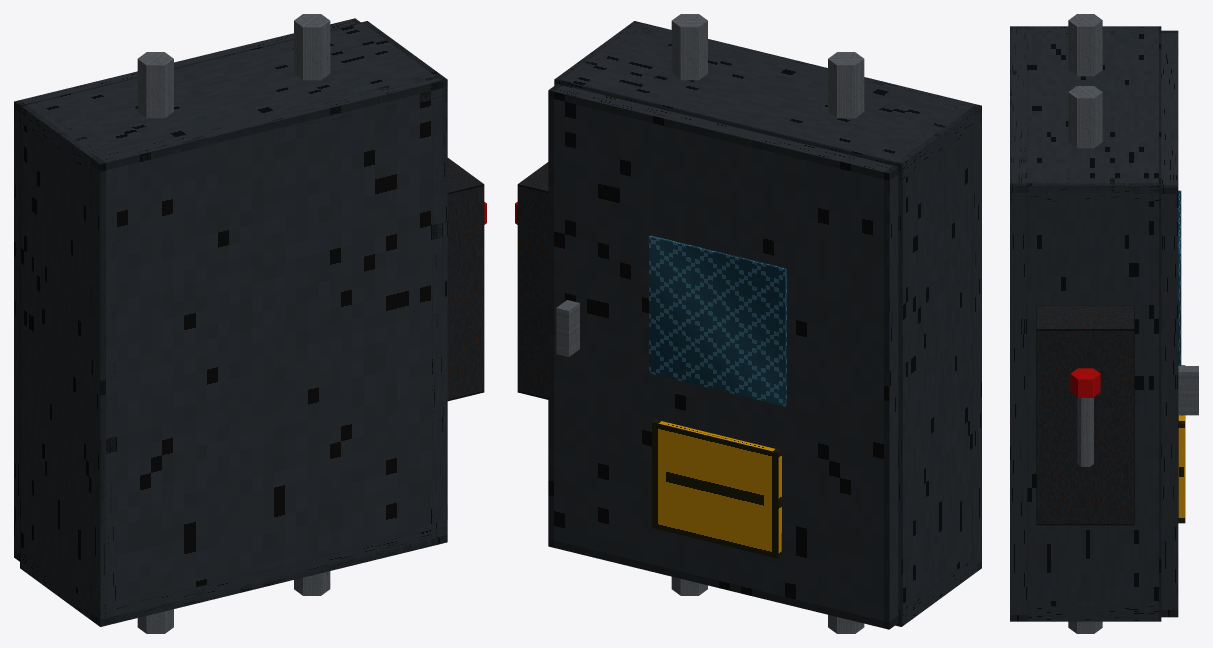
The model's file is fuse_box.glb.
The picture shows the model from 3 angles, left to right: view 1: azimuth 30°, elevation 25°; view 2: azimuth 150°, elevation 25°; view 3: azimuth 270°, elevation 25°; orthographic projection. The views are drawn at different scales.
Parts seen in each view (by area): view 1: fuse_box; view 2: fuse_box; view 3: fuse_box.
Part boxes in pixels (x1,y1,x2,y2): fuse_box: [14, 14, 486, 633]; fuse_box: [515, 14, 981, 633]; fuse_box: [1010, 14, 1198, 633].
Bounding box in the file's own units: 0.6691 × 0.86 × 0.275.
Materials: 1 (1 with a texture image).
